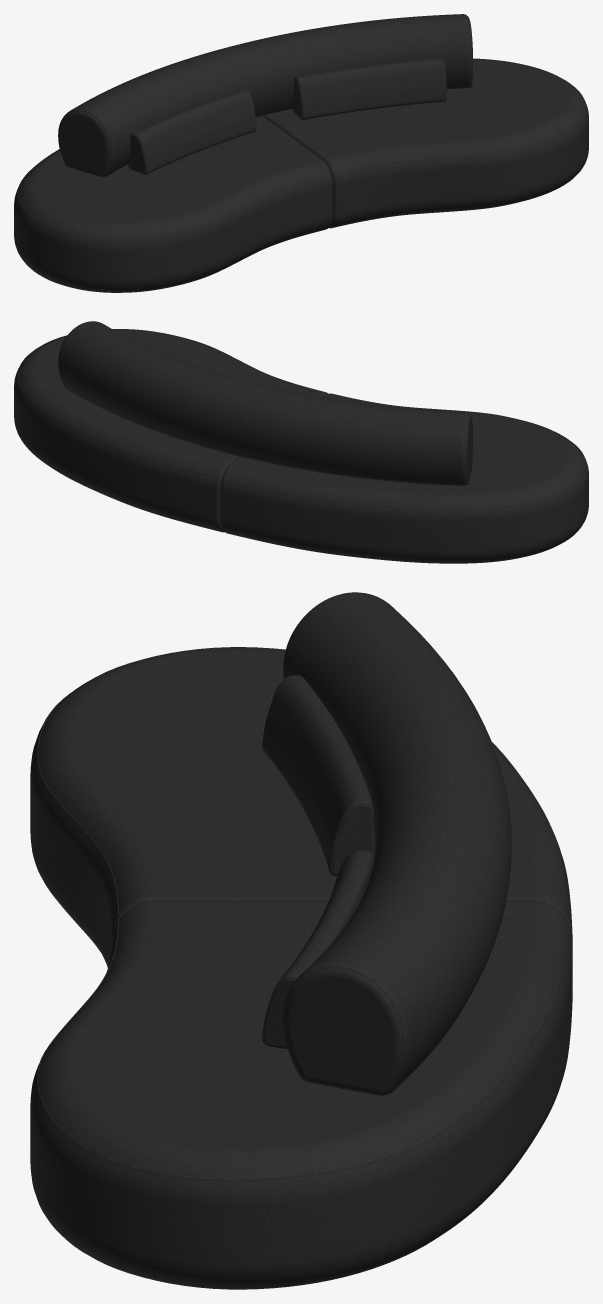
File: sofa6.glb
3 renders of one model, top to bottom at view 1: azimuth 30°, elevation 25°; view 2: azimuth 150°, elevation 25°; view 3: azimuth 270°, elevation 25°, orthographic. The views are drawn at different scales.
Visible parts, largest first — view 1: 4p.08; view 2: 4p.08; view 3: 4p.08.
Boxes of the visible parts, <box> form: 4p.08: <box>14,14,588,292</box>; 4p.08: <box>14,321,588,563</box>; 4p.08: <box>30,592,572,1289</box>.
Bounding box in the file's own units: 3.03 × 0.685 × 1.3.
Materials: 1 (1 with a texture image).
